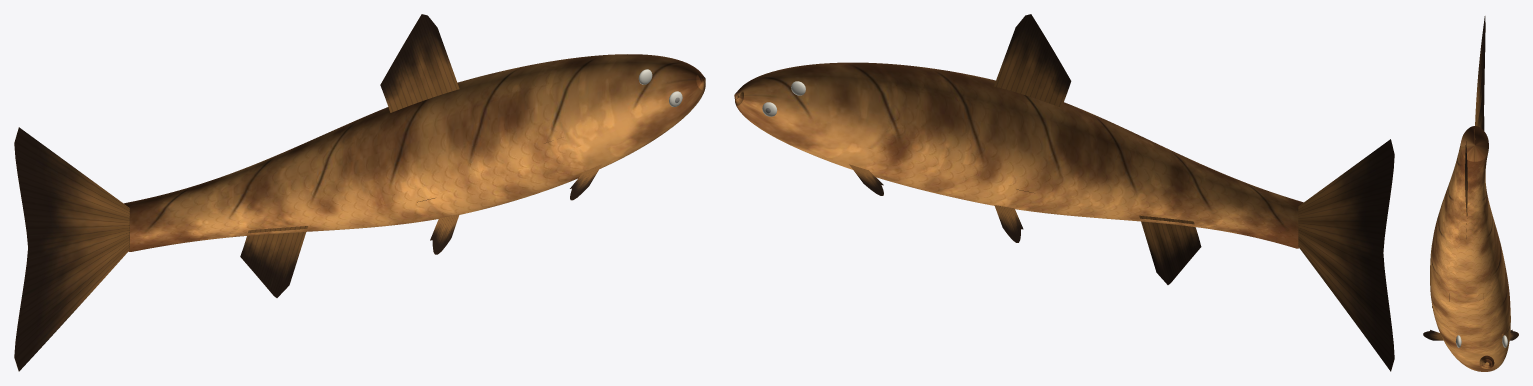
The model's file is fish_grass_carp_cooked.gltf.
3 renders of one model, left to right at view 1: azimuth 30°, elevation 25°; view 2: azimuth 150°, elevation 25°; view 3: azimuth 270°, elevation 25°, orthographic. The views are drawn at different scales.
Visible parts, largest first — view 1: fish_grass_carp_cooked; view 2: fish_grass_carp_cooked; view 3: fish_grass_carp_cooked.
Boxes of the visible parts, <box> form: fish_grass_carp_cooked: <box>14,14,705,371</box>; fish_grass_carp_cooked: <box>734,14,1394,371</box>; fish_grass_carp_cooked: <box>1423,16,1518,371</box>.
Bounding box in the file's own units: 0.7076 × 0.2653 × 0.1107.
Materials: 6 (4 with a texture image).
